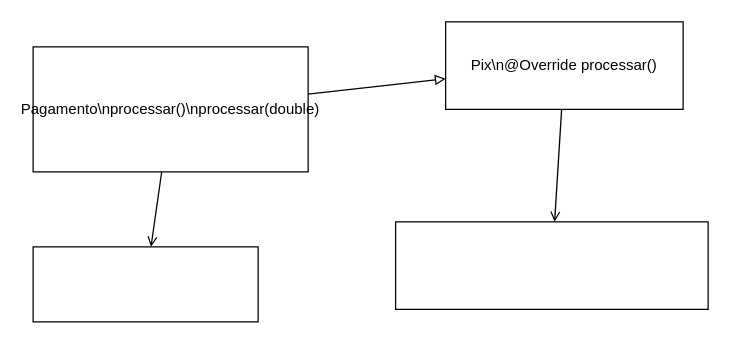
Image size: 730x344. Some labels were removed from this diagram. Each missing label, with the centre of its shape:
"Compilador\nOverload" goes at (x=145, y=284).
"JVM\nOverride / ligação dinâmica" goes at (x=551, y=265).
